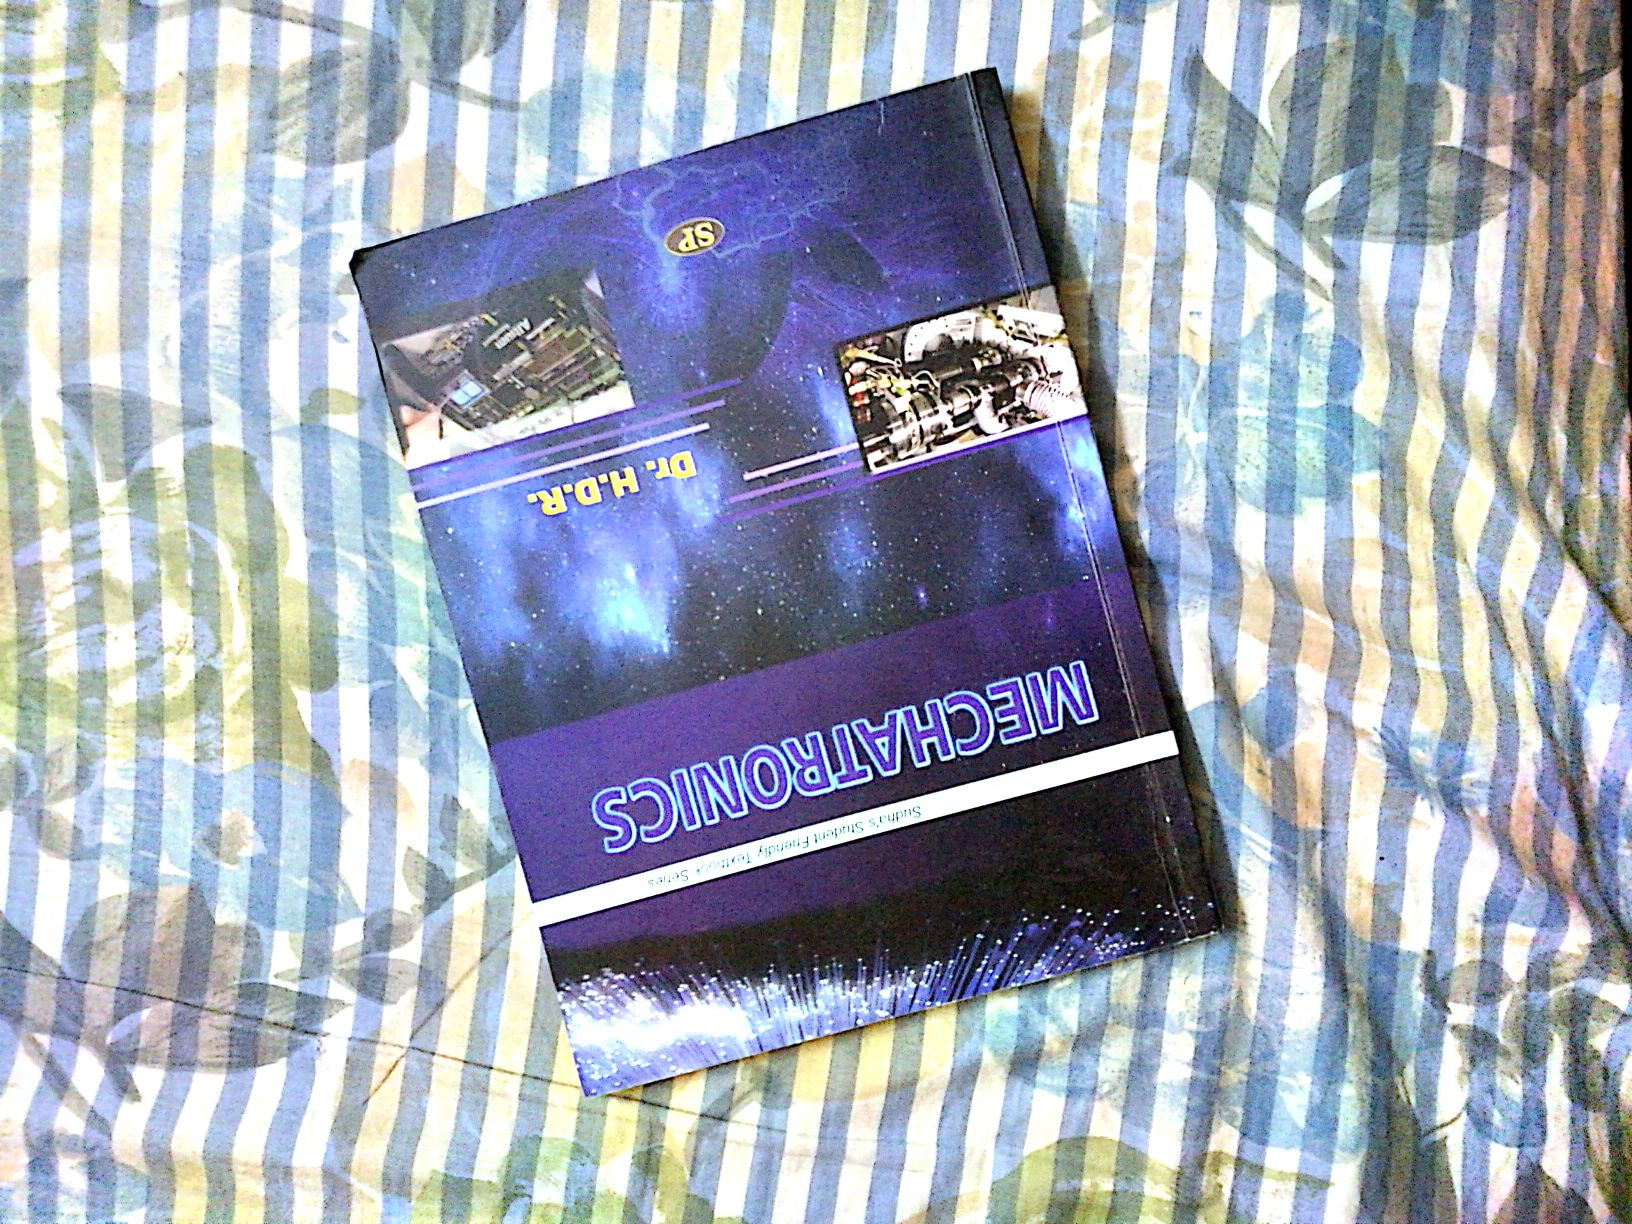mechatronics: (352, 108, 1345, 1099)
